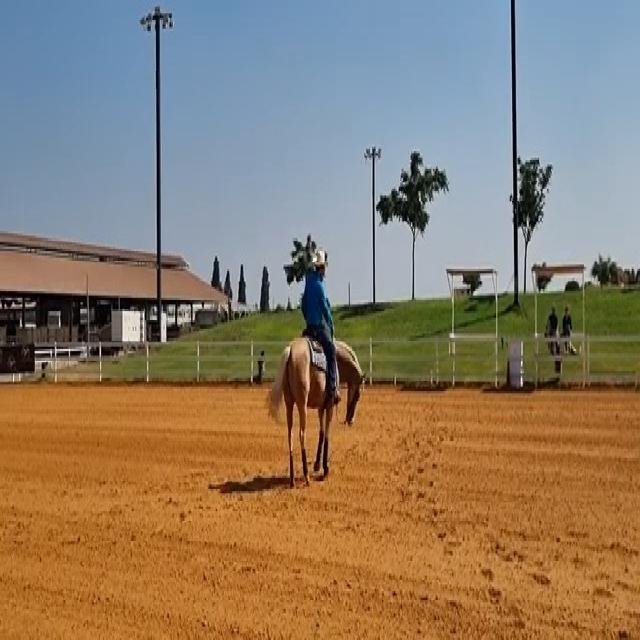horse: (267, 329, 365, 489)
